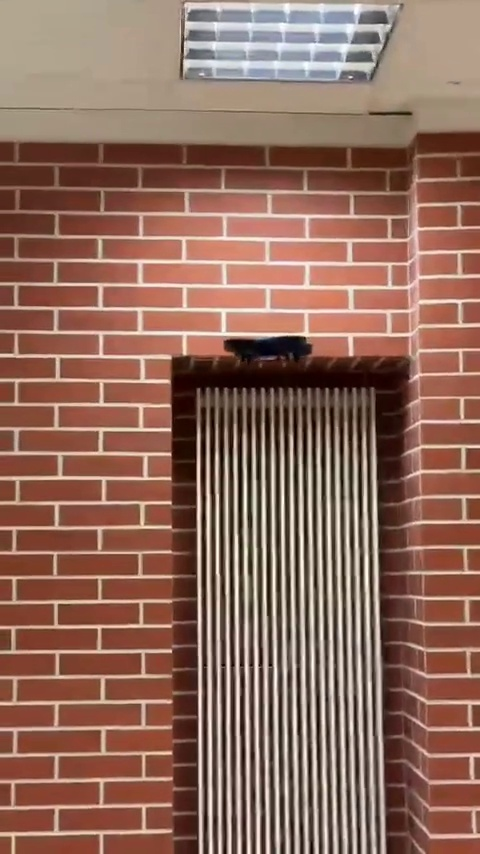drone: (219, 336, 315, 366)
